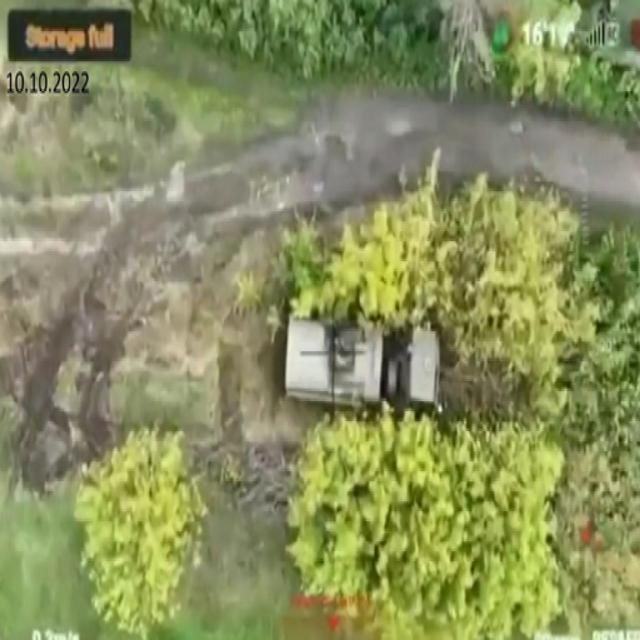TRUCK: (272, 289, 446, 444)
